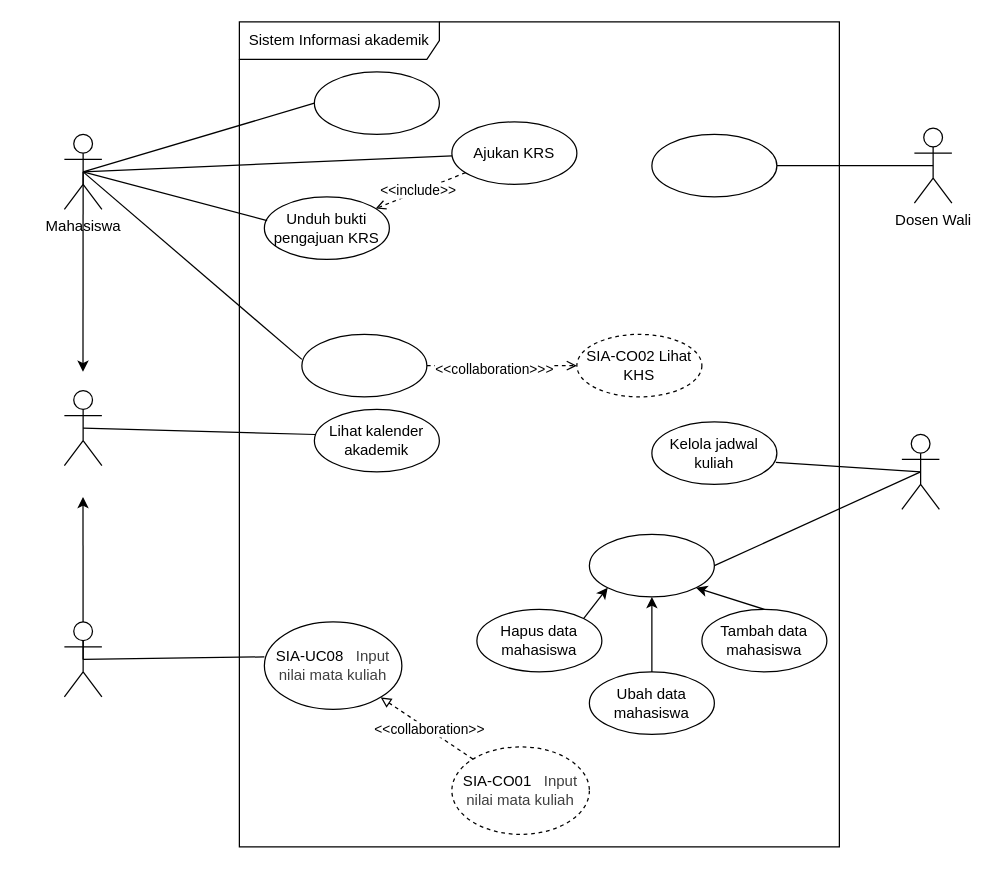
The diagram is 998 pixels wide and 869 high, and some of its shapes have lost their labels. The shapes that lost their labels are listed below. From the top down, each one's centre as x and y in pixels, then its label:
At (376,102): "Lihat jadwal kuliah".
At (714,165): "Proses keputusan KRS".
At (364,365): "SIA-UC09 Lihat KHS".
At (82,427): "Civitas Akademika".
At (920,471): "Admin Akademik".
At (651,565): "Kelola data mahasiswa".
At (82,659): "Dosen".
